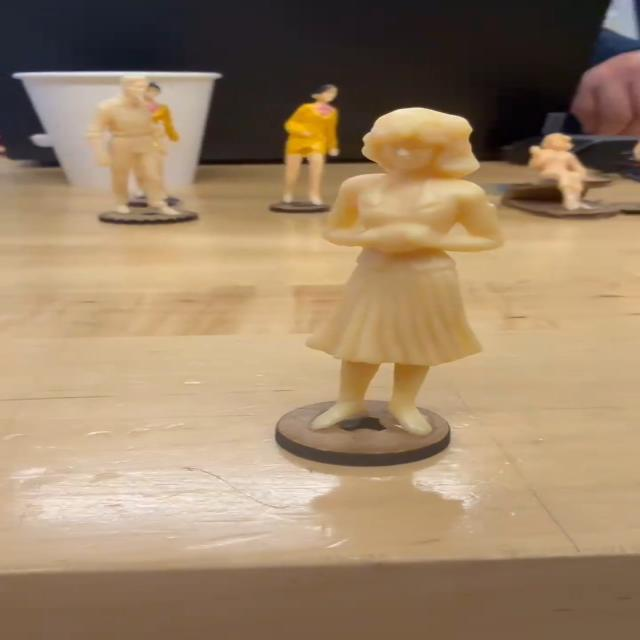Unauthorized: (288, 95, 526, 453)
